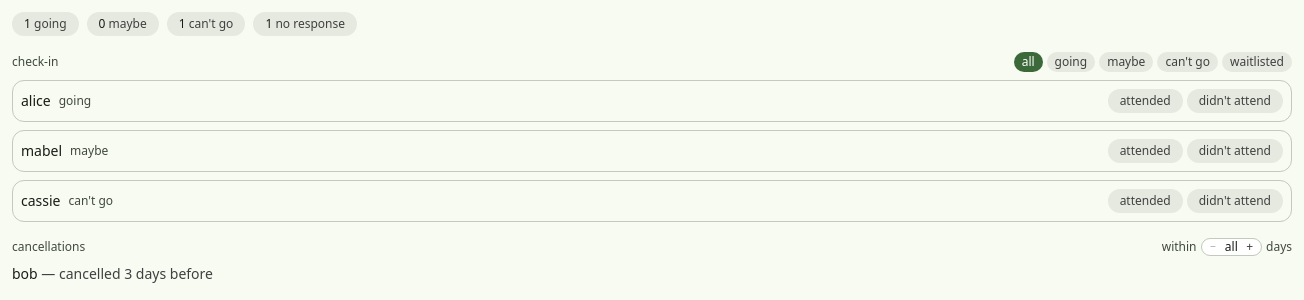
EventAttendancePanel › narrows the list to one rsvp status when a filter chip is picked
Click the button "maybe" at (1126, 62), box 1099,52 -> 1153,72
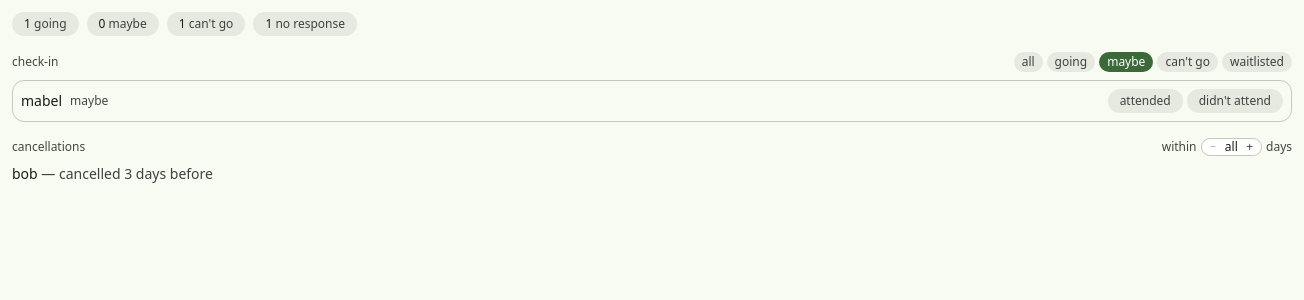
Expected: the text "mabel" is shown, 21,91 -> 62,111
Now the text "alice" is gone
Now the text "cassie" is gone
